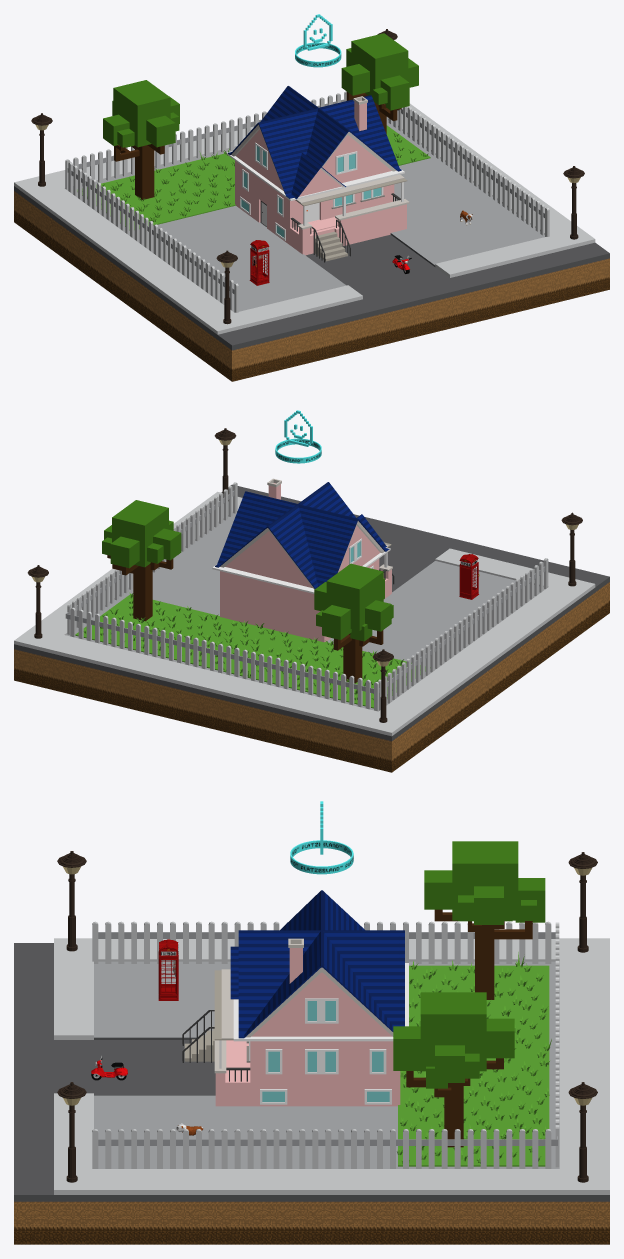
The picture shows the model from 3 angles, top to bottom: view 1: azimuth 30°, elevation 25°; view 2: azimuth 150°, elevation 25°; view 3: azimuth 270°, elevation 25°; orthographic projection. The views are drawn at different scales.
Parts seen in each view (by area): view 1: Cube.004, Cube.313, TYPE_PREMIUM, OBJRANDOM_PHONEBOOTH; view 2: Cube.004, Cube.313, TYPE_PREMIUM, OBJRANDOM_PHONEBOOTH; view 3: Cube.004, Cube.313, TYPE_PREMIUM, OBJRANDOM_PHONEBOOTH.
Part boxes in pixels (x1,y1,x2,y2): Cube.004: (14, 29, 609, 381); Cube.313: (226, 86, 409, 262); TYPE_PREMIUM: (295, 14, 341, 67); OBJRANDOM_PHONEBOOTH: (249, 240, 269, 285); Cube.004: (14, 428, 609, 772); Cube.313: (212, 478, 394, 642); TYPE_PREMIUM: (275, 410, 321, 463); OBJRANDOM_PHONEBOOTH: (459, 554, 479, 599); Cube.004: (14, 841, 609, 1244); Cube.313: (182, 890, 408, 1106); TYPE_PREMIUM: (290, 801, 353, 874); OBJRANDOM_PHONEBOOTH: (158, 939, 178, 1000).
Size of the model in its own units: 4000 by 2483 by 4000.
46 materials, 4 textured.
